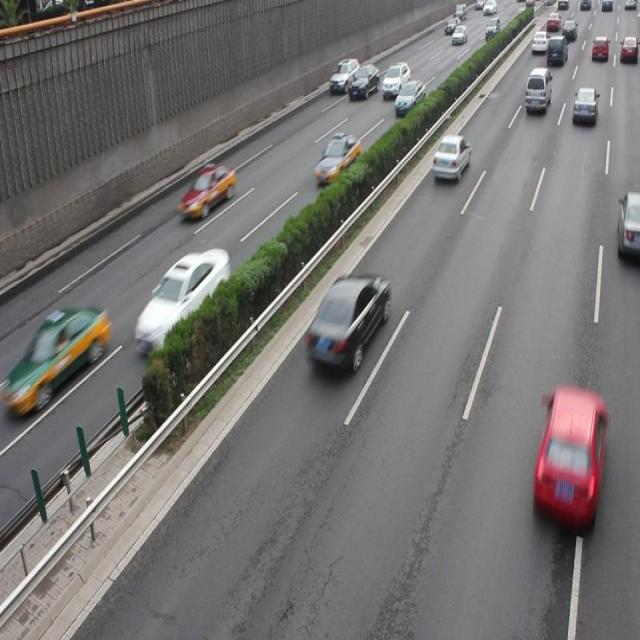car: (530, 386, 605, 534), (134, 248, 229, 352), (20, 305, 109, 410), (303, 273, 389, 372), (178, 164, 235, 219), (313, 134, 361, 184), (430, 132, 470, 184), (616, 192, 640, 256), (393, 79, 425, 115)
